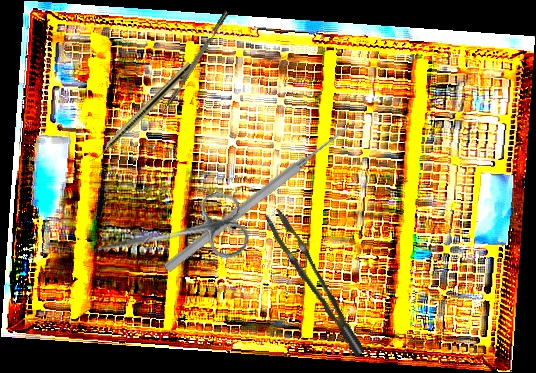Chopper: (156, 10, 235, 122)
Handpiece: (86, 59, 195, 168)
Iris Scissors: (87, 186, 253, 286)
Pusher: (162, 122, 352, 275)
Tissue Forceps: (264, 200, 365, 367)
